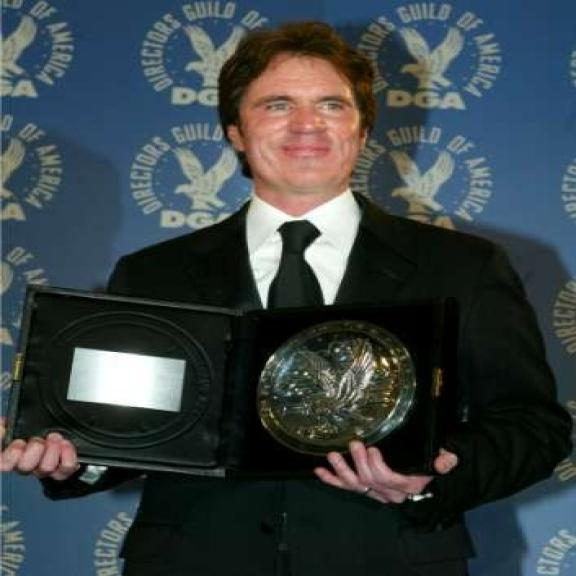face: (228, 62, 376, 196)
